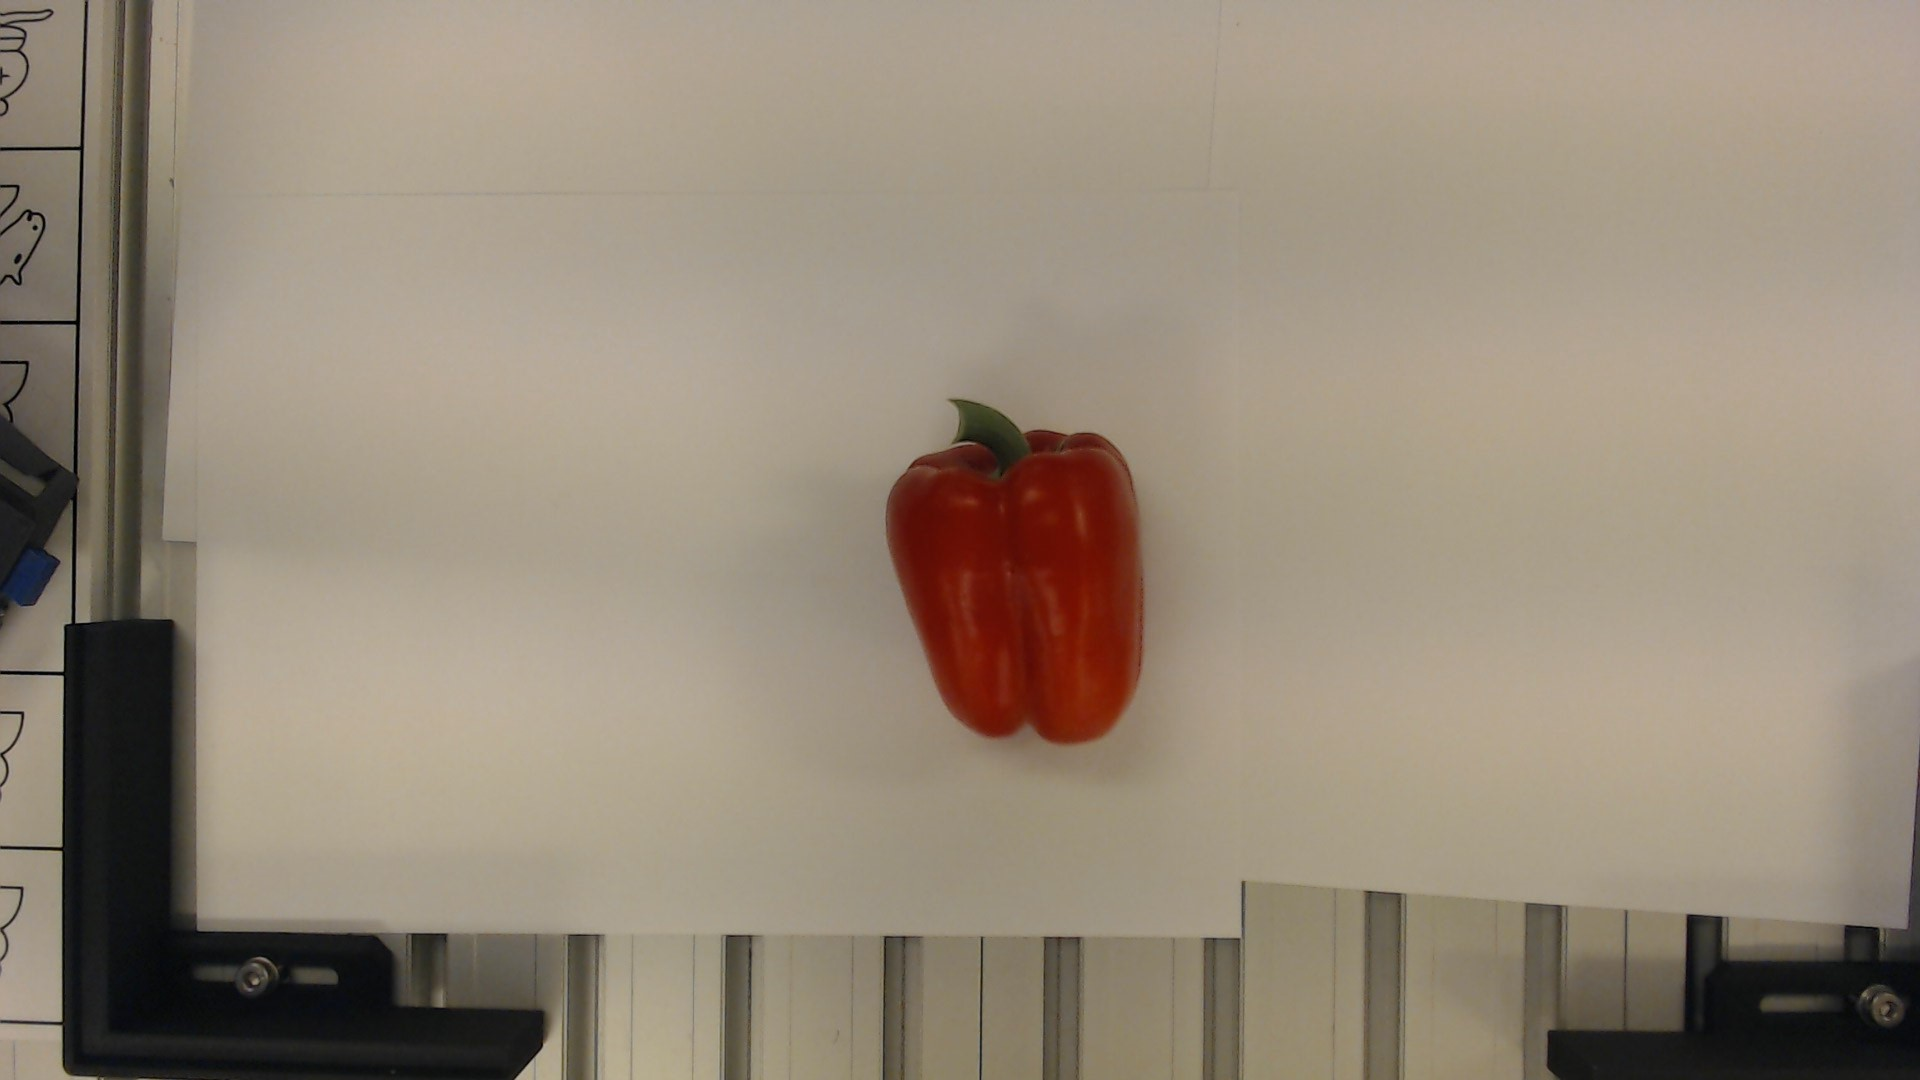Red Bell Pepper: (872, 392, 1151, 745)
